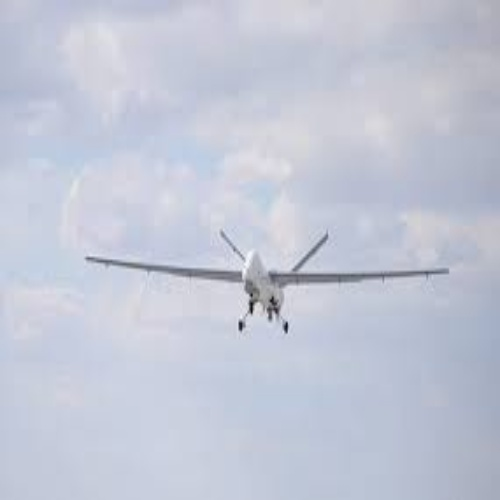uav642: (85, 225, 451, 334)
